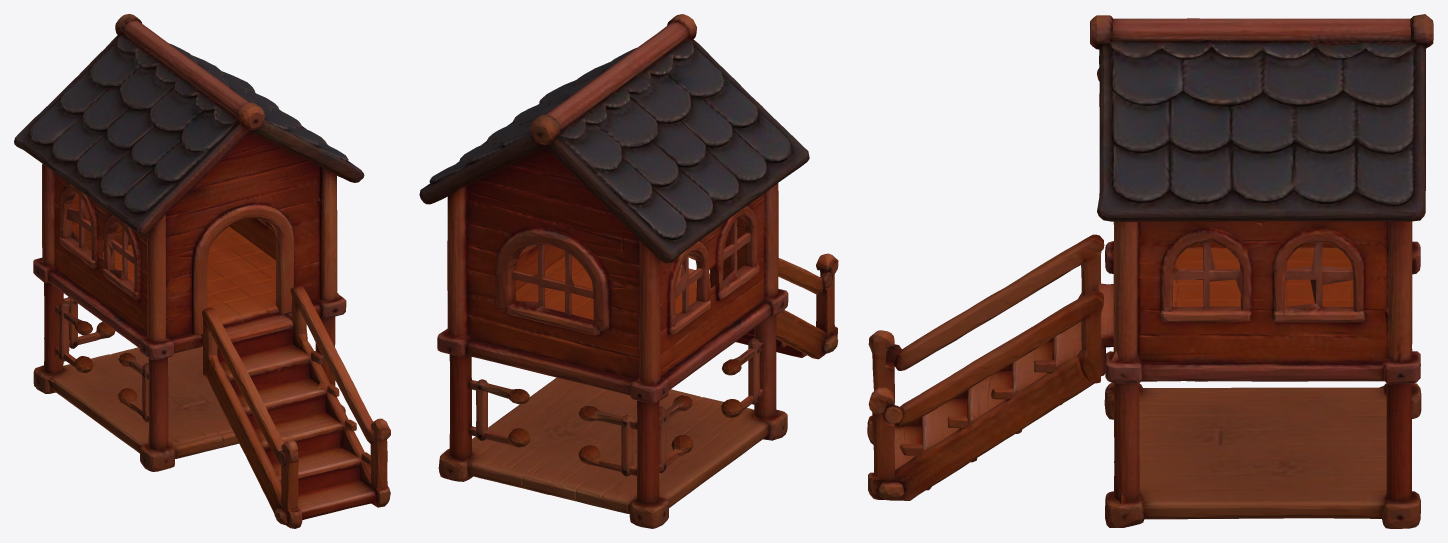
File: DOM_budka_2__brown.glb
3 renders of one model, left to right at view 1: azimuth 30°, elevation 25°; view 2: azimuth 150°, elevation 25°; view 3: azimuth 270°, elevation 25°, orthographic. The views are drawn at different scales.
Visible parts, largest first — view 1: tripo_node_ac6729f5-73c2-4e4e-95e1-3ff5b1cdb705; view 2: tripo_node_ac6729f5-73c2-4e4e-95e1-3ff5b1cdb705; view 3: tripo_node_ac6729f5-73c2-4e4e-95e1-3ff5b1cdb705.
Boxes of the visible parts, bbox=[...] form: tripo_node_ac6729f5-73c2-4e4e-95e1-3ff5b1cdb705: bbox=[14, 14, 390, 528]; tripo_node_ac6729f5-73c2-4e4e-95e1-3ff5b1cdb705: bbox=[419, 14, 838, 528]; tripo_node_ac6729f5-73c2-4e4e-95e1-3ff5b1cdb705: bbox=[867, 14, 1433, 528].
Bounding box in the file's own units: 2.76 × 4 × 4.52.
Materials: 1 (1 with a texture image).
